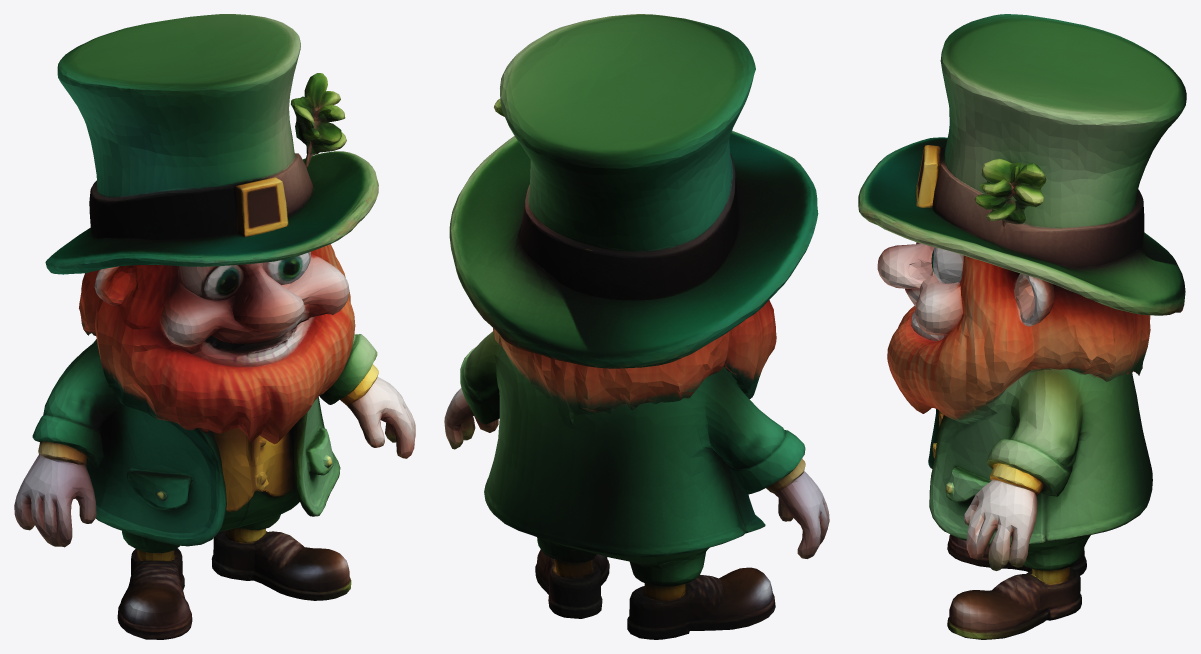
The model's file is gingerModel.glb.
3 renders of one model, left to right at view 1: azimuth 30°, elevation 25°; view 2: azimuth 150°, elevation 25°; view 3: azimuth 270°, elevation 25°, orthographic. The views are drawn at different scales.
Visible parts, largest first — view 1: world; view 2: world; view 3: world.
Part boxes in pixels (x1,y1,x2,y2): world: [14, 14, 415, 639]; world: [444, 14, 829, 639]; world: [858, 14, 1186, 639].
Size of the model in its own units: 0.728 by 0.9995 by 0.5609.
Materials: 1 (1 with a texture image).
